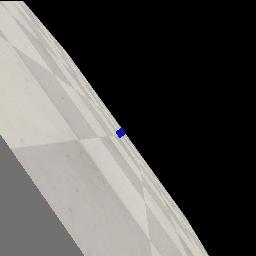box: (116, 127, 126, 138)
